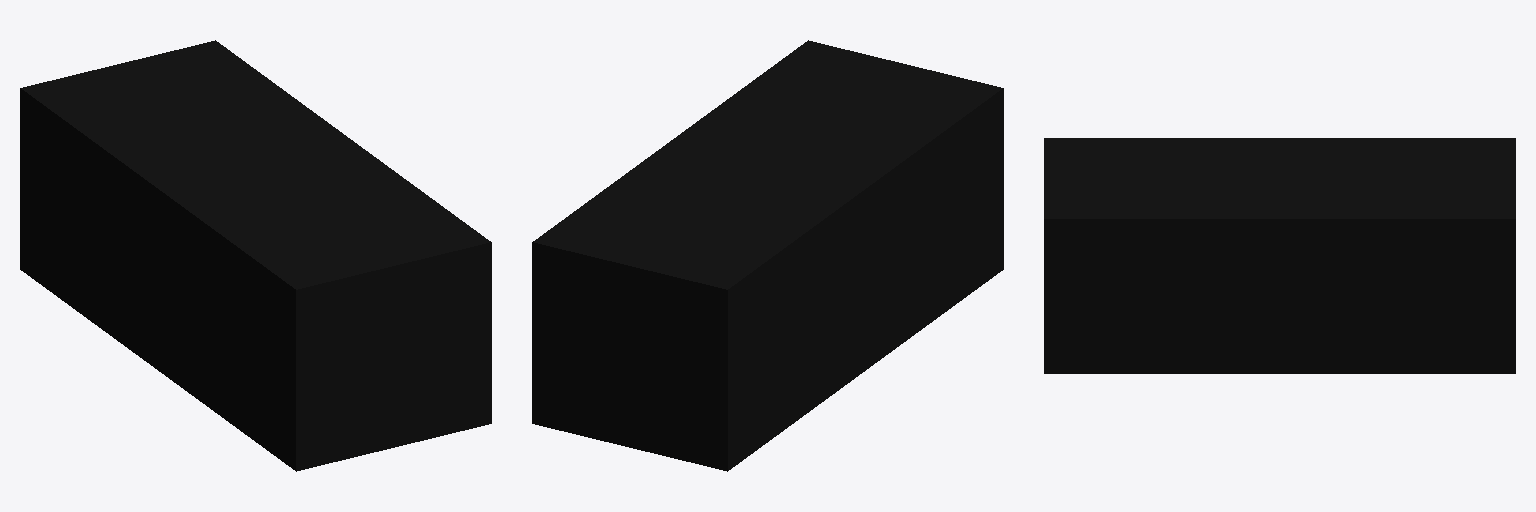
URDF robot description (wave_rover):
<?xml version="1.0" ?>
<!-- =================================================================================== -->
<!-- |    This document was autogenerated by xacro from wave_rover.urdf.xacro          | -->
<!-- |    EDITING THIS FILE BY HAND IS NOT RECOMMENDED                                 | -->
<!-- =================================================================================== -->
<robot name="wave_rover">
  <!-- Base -->
  <link name="base_link">
    <visual>
      <geometry>
        <mesh filename="package://wave_rover_description/meshes/wave_rover_model.stl" scale="0.001 0.001 0.001"/>
      </geometry>
      <material name="grey">
        <color rgba="0.6 0.6 0.6 1.0"/>
      </material>
    </visual>
    <collision>
      <geometry>
        <box size="0.3 0.2 0.1"/>
        <!-- crude collision approximation -->
      </geometry>
    </collision>
    <inertial>
      <mass value="2.0"/>
      <inertia ixx="0.01" ixy="0.0" ixz="0.0" iyy="0.01" iyz="0.0" izz="0.01"/>
    </inertial>
  </link>
  <!-- Bracket Stand (support box for bracket + camera) -->
  <link name="bracket_stand_link">
    <visual>
      <geometry>
        <box size="0.045 0.11 0.04"/>
        <!-- 4.5cm x 11cm x 4cm -->
      </geometry>
      <material name="black">
        <color rgba="0.1 0.1 0.1 1.0"/>
      </material>
    </visual>
  </link>
  <joint name="bracket_stand_mount" type="fixed">
    <parent link="base_link"/>
    <child link="bracket_stand_link"/>
    <origin rpy="0 0 0" xyz="0.0 0.0042 0.07"/>
    <!-- raise box to sit on top of base -->
  </joint>
  <!-- Bracket -->
  <link name="camera_bracket_link">
    <visual>
      <geometry>
        <mesh filename="package://wave_rover_description/meshes/realsense_bracket.stl" scale="0.001 0.001 0.001"/>
      </geometry>
    </visual>
  </link>
  <joint name="bracket_mount" type="fixed">
    <parent link="bracket_stand_link"/>
    <child link="camera_bracket_link"/>
    <origin rpy="0 0 0" xyz="0.0 -0.04 0.02"/>
    <!-- place bracket on top of box -->
  </joint>
  <!-- Camera -->
  <link name="camera_link">
    <visual>
      <geometry>
        <mesh filename="package://wave_rover_description/meshes/d435.stl" scale="0.01 0.01 0.01"/>
      </geometry>
      <material name="blue">
        <color rgba="0.1 0.1 1.0 1.0"/>
      </material>
    </visual>
  </link>
  <joint name="camera_mount" type="fixed">
    <parent link="camera_bracket_link"/>
    <child link="camera_link"/>
    <origin rpy="0.349 0 0" xyz="0.0 -0.03 0.02"/>
    <!-- 20° tilt down -->
  </joint>
  <!-- Gazebo diff drive plugin -->
  <gazebo>
    <plugin filename="libgazebo_ros_diff_drive.so" name="diff_drive_controller">
      <ros>
        <namespace>/wave_rover</namespace>
      </ros>
      <left_joint>left_wheel_joint</left_joint>
      <right_joint>right_wheel_joint</right_joint>
      
      ...
    
    </plugin>
  </gazebo>
  <!-- Gazebo depth camera plugin -->
  <gazebo reference="camera_link">
    <sensor name="realsense_sim" type="depth">
      <update_rate>30.0</update_rate>
      <camera>
        <horizontal_fov>1.3962634</horizontal_fov>
        <image>
          <width>640</width>
          <height>480</height>
          <format>R8G8B8</format>
        </image>
        <clip>
          <near>0.1</near>
          <far>5.0</far>
        </clip>
      </camera>
      <plugin filename="libgazebo_ros_depth_camera.so" name="gazebo_ros_depth_camera">
        <ros>
          <namespace>/camera</namespace>
        </ros>
        <camera_name>camera</camera_name>
        <image_topic_name>color/image_raw</image_topic_name>
        <depth_image_topic_name>depth/image_raw</depth_image_topic_name>
        <info_topic_name>camera_info</info_topic_name>
      </plugin>
    </sensor>
  </gazebo>
</robot>

--- What the picture shows (computed from the rendered views, not written in the file) ---
Views: 3 orthographic renders of the robot side by side, from view 1: azimuth 30°, elevation 25°; view 2: azimuth 150°, elevation 25°; view 3: azimuth 270°, elevation 25°.
Robot: wave_rover — 4 links, 3 joints (3 fixed); root link base_link; default pose: all joints at 0.
Visible links, largest first — view 1: bracket_stand_link; view 2: bracket_stand_link; view 3: bracket_stand_link.
Link boxes in pixels (x1,y1,x2,y2): bracket_stand_link: [20, 40, 491, 471]; bracket_stand_link: [532, 40, 1003, 471]; bracket_stand_link: [1044, 138, 1515, 373].
Size in the robot's own frame: 0.045 by 0.11 by 0.04 metres.
0 mesh visuals loaded from 3 distinct referenced files (none loaded); not drawn: 3 (file found but could not be loaded).